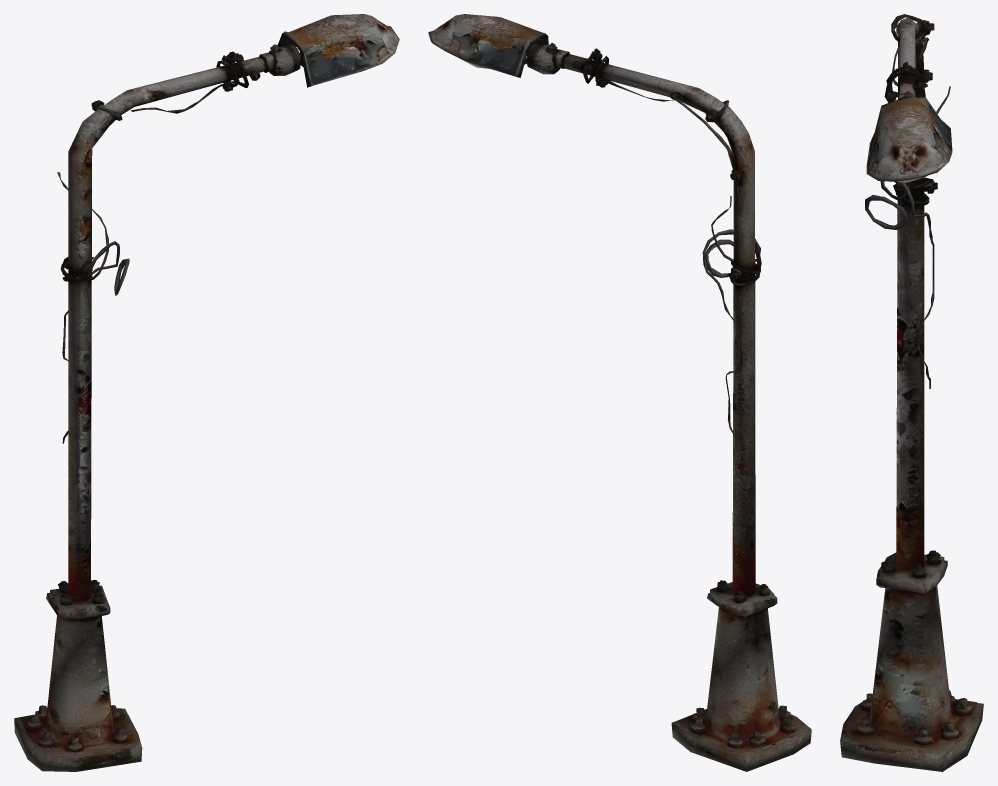
The model's file is abandoned_street_lamp.glb.
The picture shows the model from 3 angles, left to right: view 1: azimuth 30°, elevation 25°; view 2: azimuth 150°, elevation 25°; view 3: azimuth 270°, elevation 25°; orthographic projection. The views are drawn at different scales.
Parts seen in each view (by area): view 1: tripo_node_b6b5264e-46e3-47a5-8da1-dfec45e3f916; view 2: tripo_node_b6b5264e-46e3-47a5-8da1-dfec45e3f916; view 3: tripo_node_b6b5264e-46e3-47a5-8da1-dfec45e3f916.
Part boxes in pixels (bbox=[...]): tripo_node_b6b5264e-46e3-47a5-8da1-dfec45e3f916: bbox=[14, 14, 399, 771]; tripo_node_b6b5264e-46e3-47a5-8da1-dfec45e3f916: bbox=[428, 14, 811, 771]; tripo_node_b6b5264e-46e3-47a5-8da1-dfec45e3f916: bbox=[840, 14, 983, 771].
Size of the model in its own units: 0.5801 by 0.998 by 0.1699.
Materials: 1 (1 with a texture image).
